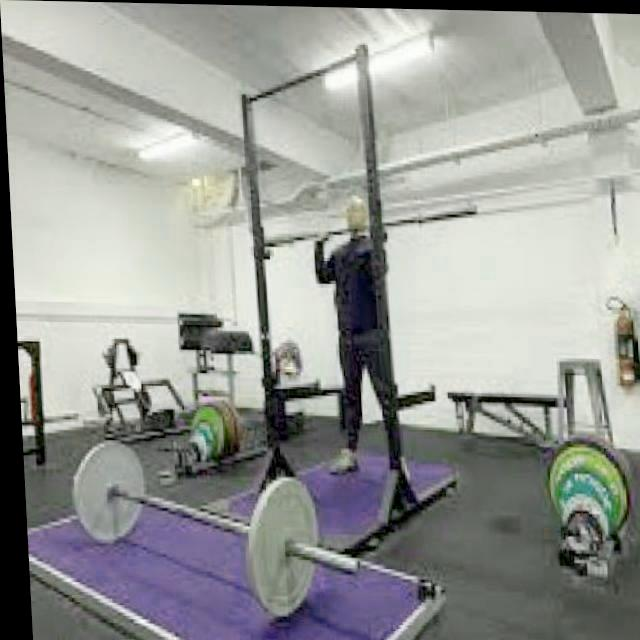barbell: (232, 477, 360, 622)
